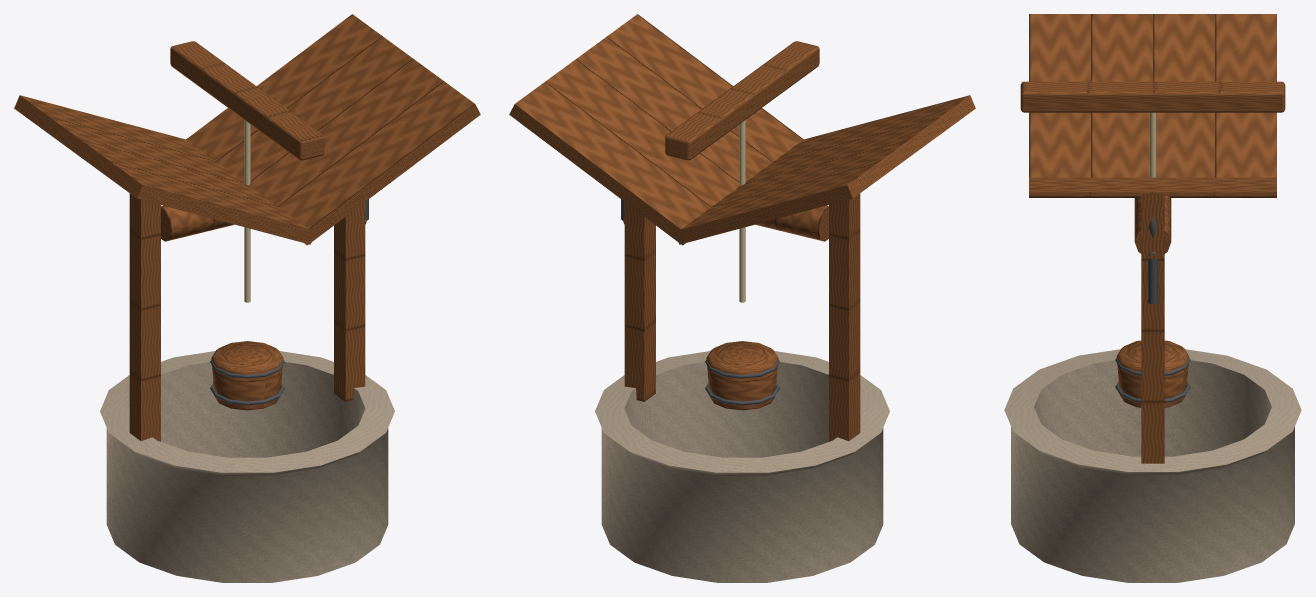
Rendered from wild-west-frontier-town-town-well-de427926__30099.glb.
The picture shows the model from 3 angles, left to right: view 1: azimuth 30°, elevation 25°; view 2: azimuth 150°, elevation 25°; view 3: azimuth 270°, elevation 25°; orthographic projection.
Visible parts, largest first — view 1: town-well; view 2: town-well; view 3: town-well.
Boxes of the visible parts, bbox=[...] form: town-well: bbox=[14, 14, 480, 582]; town-well: bbox=[509, 14, 975, 582]; town-well: bbox=[1004, 14, 1301, 582].
Size of the model in its own units: 2.42 by 2.92 by 1.8.
4 materials, 2 textured.
